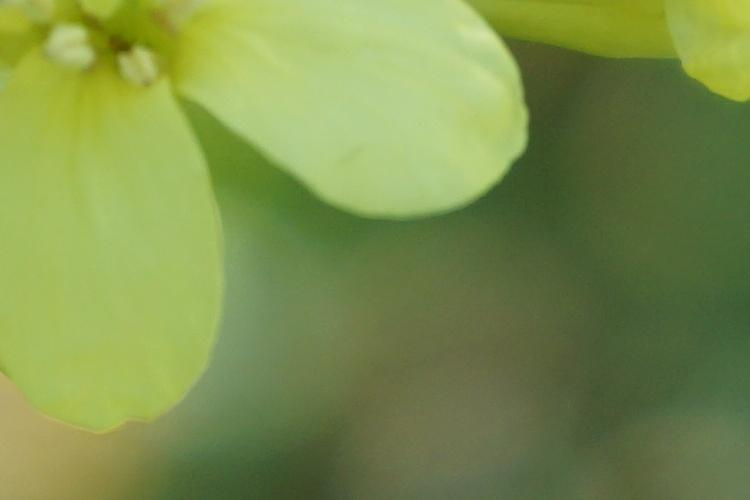yellow: (1, 1, 539, 430)
